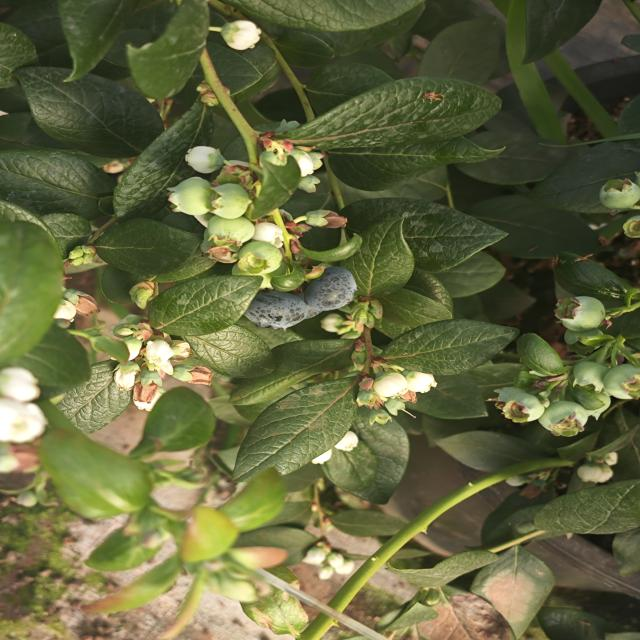ripe: (235, 284, 312, 337), (297, 259, 362, 312)
